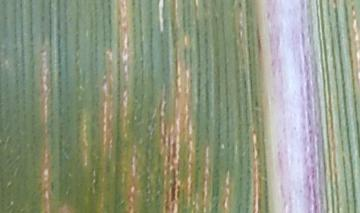tarspot: (39, 14, 45, 24), (349, 4, 356, 12), (237, 1, 243, 9), (253, 100, 259, 108), (242, 78, 246, 89), (2, 14, 8, 21), (194, 148, 200, 154), (130, 1, 135, 7)
